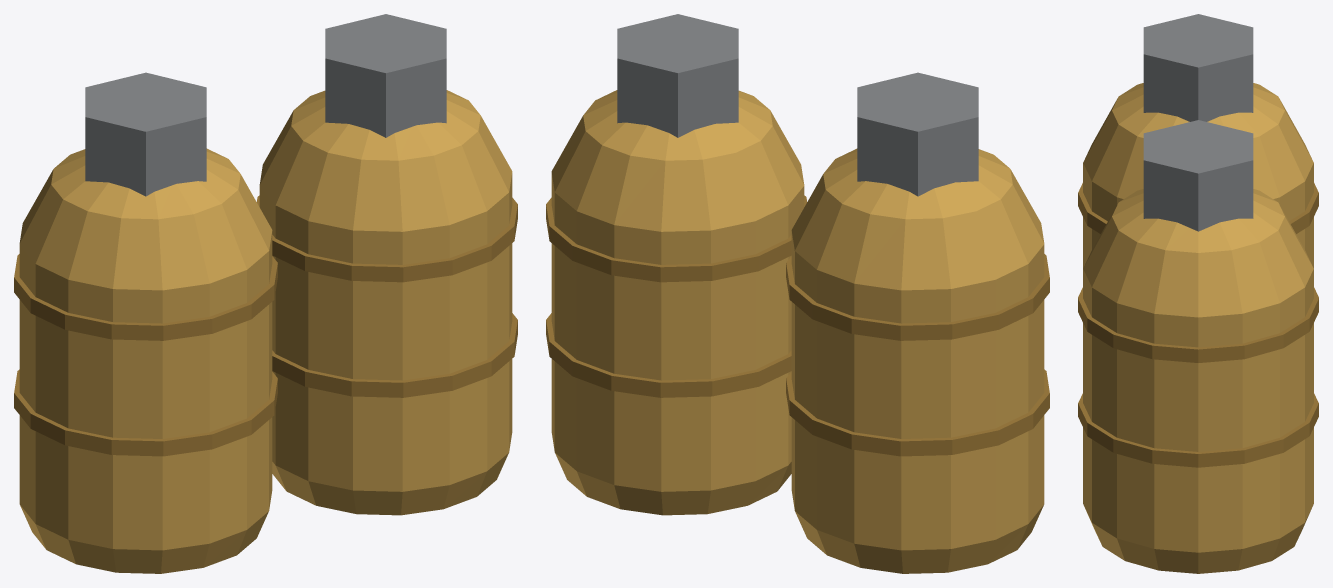
The model's file is vge_item_oxygen_canister_b.obj.
3 renders of one model, left to right at view 1: azimuth 30°, elevation 25°; view 2: azimuth 150°, elevation 25°; view 3: azimuth 270°, elevation 25°, orthographic. The views are drawn at different scales.
Parts seen in each view (by area): view 1: vge_item_oxygen_canister_b_0, vge_item_oxygen_canister_b_4, vge_item_oxygen_canister_b_3, vge_item_oxygen_canister_b_7, vge_item_oxygen_canister_b_1, vge_item_oxygen_canister_b_2, vge_item_oxygen_canister_b_6, vge_item_oxygen_canister_b_5; view 2: vge_item_oxygen_canister_b_0, vge_item_oxygen_canister_b_4, vge_item_oxygen_canister_b_3, vge_item_oxygen_canister_b_7, vge_item_oxygen_canister_b_1, vge_item_oxygen_canister_b_2, vge_item_oxygen_canister_b_6, vge_item_oxygen_canister_b_5; view 3: vge_item_oxygen_canister_b_4, vge_item_oxygen_canister_b_0, vge_item_oxygen_canister_b_7, vge_item_oxygen_canister_b_3, vge_item_oxygen_canister_b_5, vge_item_oxygen_canister_b_6, vge_item_oxygen_canister_b_2.
Boxes of the visible parts, left/top/right/bottom form: vge_item_oxygen_canister_b_0: left=19, top=148, right=272, bottom=573; vge_item_oxygen_canister_b_4: left=259, top=90, right=512, bottom=515; vge_item_oxygen_canister_b_3: left=85, top=72, right=206, bottom=196; vge_item_oxygen_canister_b_7: left=325, top=14, right=446, bottom=137; vge_item_oxygen_canister_b_1: left=14, top=369, right=277, bottom=456; vge_item_oxygen_canister_b_2: left=14, top=254, right=277, bottom=340; vge_item_oxygen_canister_b_6: left=257, top=195, right=517, bottom=282; vge_item_oxygen_canister_b_5: left=272, top=313, right=517, bottom=397; vge_item_oxygen_canister_b_0: left=791, top=148, right=1044, bottom=573; vge_item_oxygen_canister_b_4: left=551, top=90, right=804, bottom=515; vge_item_oxygen_canister_b_3: left=857, top=72, right=978, bottom=196; vge_item_oxygen_canister_b_7: left=617, top=14, right=738, bottom=137; vge_item_oxygen_canister_b_1: left=786, top=369, right=1049, bottom=456; vge_item_oxygen_canister_b_2: left=786, top=254, right=1049, bottom=340; vge_item_oxygen_canister_b_6: left=546, top=195, right=806, bottom=282; vge_item_oxygen_canister_b_5: left=546, top=313, right=791, bottom=397; vge_item_oxygen_canister_b_4: left=1083, top=189, right=1313, bottom=573; vge_item_oxygen_canister_b_0: left=1083, top=83, right=1313, bottom=268; vge_item_oxygen_canister_b_7: left=1143, top=120, right=1253, bottom=231; vge_item_oxygen_canister_b_3: left=1143, top=14, right=1253, bottom=121; vge_item_oxygen_canister_b_5: left=1078, top=393, right=1318, bottom=467; vge_item_oxygen_canister_b_6: left=1078, top=289, right=1318, bottom=362; vge_item_oxygen_canister_b_2: left=1078, top=183, right=1318, bottom=233.
Bounding box in the file's own units: 0.588 × 0.506 × 0.288.
